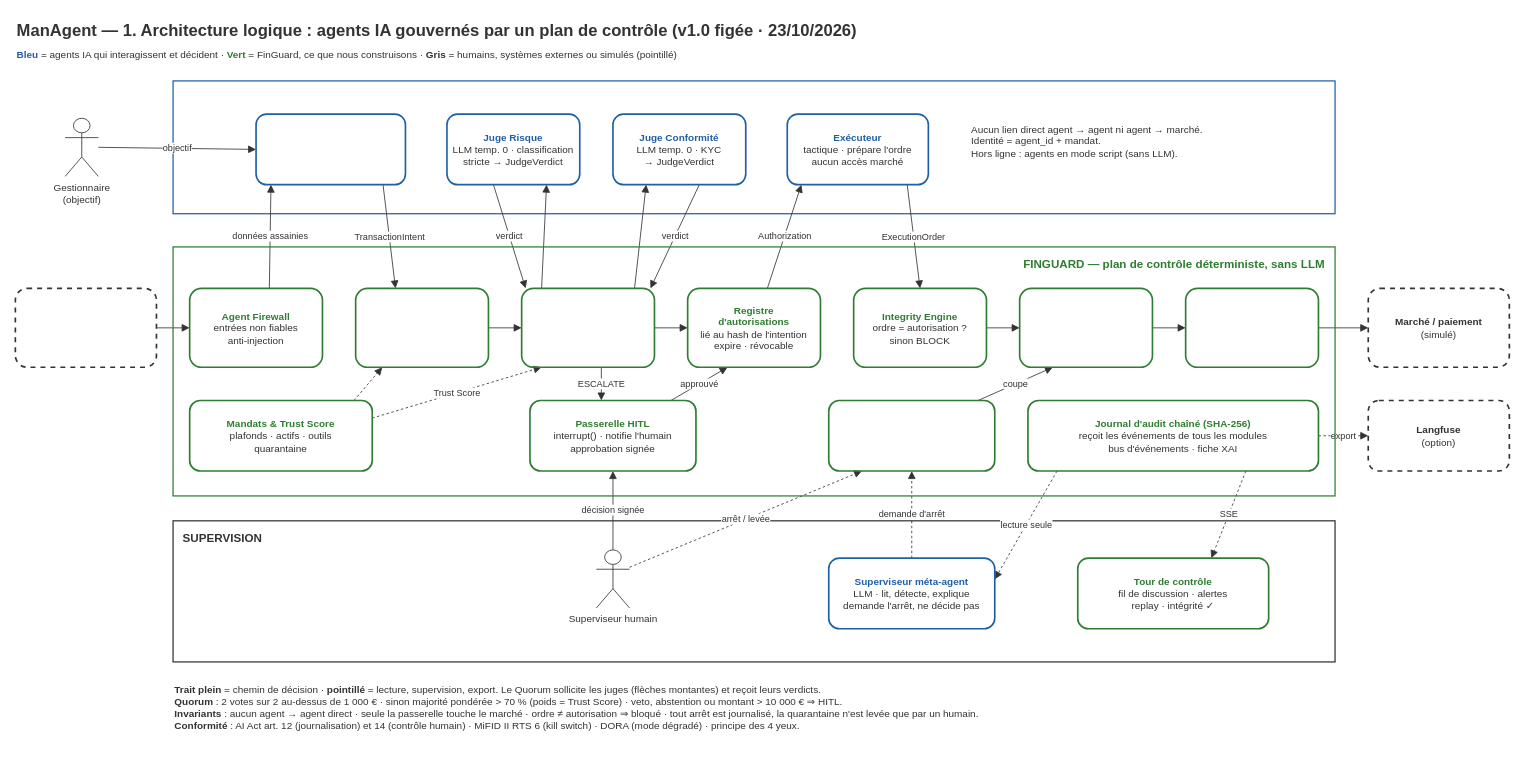
The diagram is 1524 pixels wide and 759 high, and some of its shapes have lost their labels. The shapes that lost their labels are listed below. From the top down, each one's box as (x1, y1, x2, y2) in pixels, then its label:
(255, 113, 406, 185): Proposer LLM génératif · lecture seule émet un TransactionIntent
(172, 80, 1335, 214): AGENTS IA GOUVERNÉS — ils n'échangent que des contrats Pydantic, via ManAgent
(14, 287, 157, 368): Sources externes news · documents (non fiables)
(354, 287, 489, 368): Policy Engine ALLOW · ESCALATE · BLOCK règles versionnées
(520, 287, 655, 368): Quorum pondéré ALLOW → autorisation sinon → HITL
(1018, 287, 1153, 368): Risk Governor cumul · fréquence circuit breaker
(1184, 287, 1319, 368): Passerelle d'exécution seul accès au marché
(828, 399, 995, 471): Kill switch coupe l'exécution suspend un mandat
